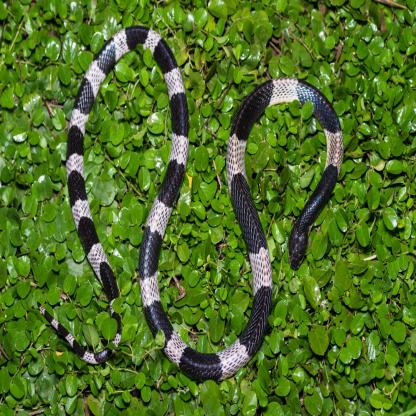Snake: (41, 23, 345, 378)
